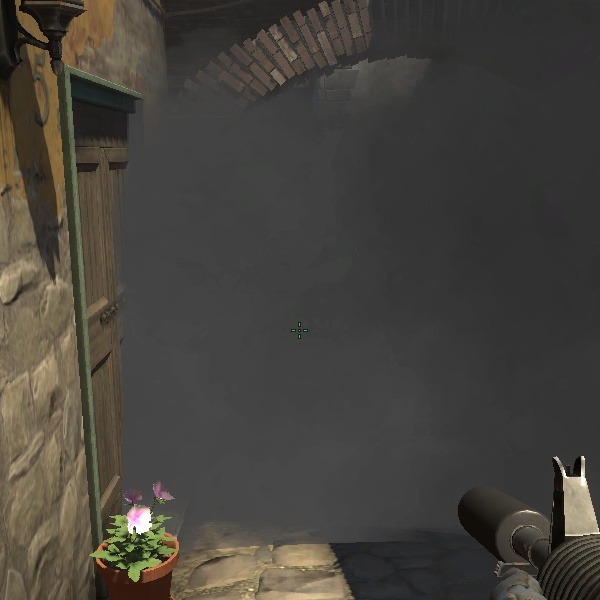t_head: (0, 0, 120, 56)
